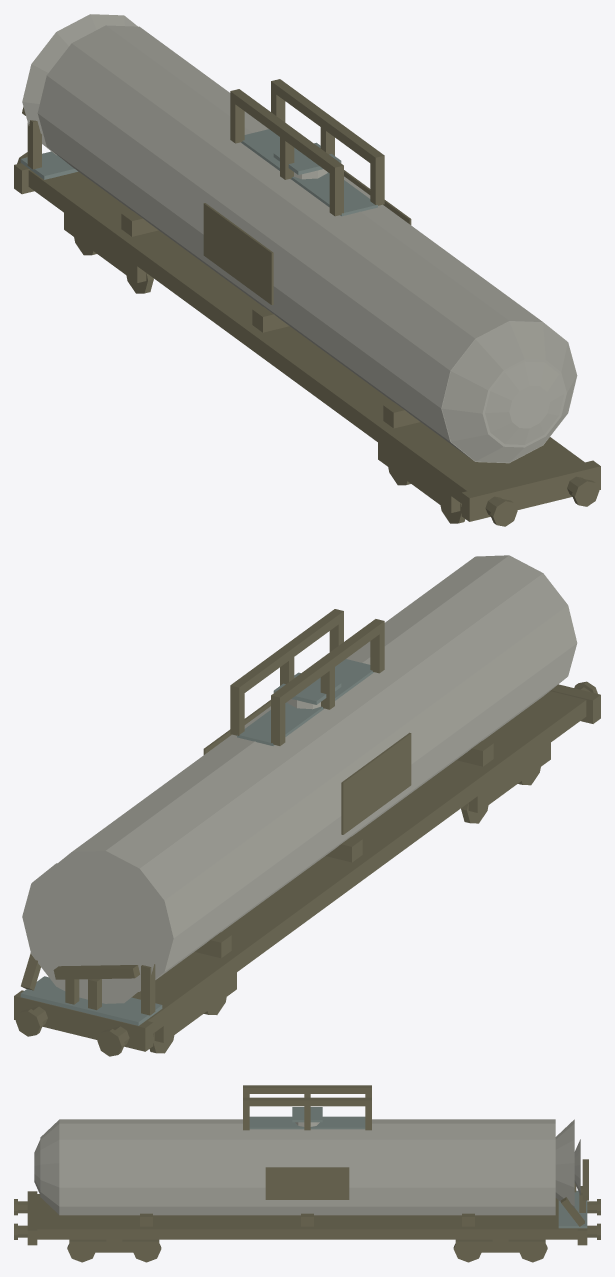
The model's file is SM_VagonCisterna_v2_SinEscalera_LOD1.fbx.
3 renders of one model, top to bottom at view 1: azimuth 30°, elevation 25°; view 2: azimuth 150°, elevation 25°; view 3: azimuth 270°, elevation 25°, orthographic. The views are drawn at different scales.
Parts seen in each view (by area): view 1: SM_bloques.vagon_cisterna_v2_LOD1; view 2: SM_bloques.vagon_cisterna_v2_LOD1; view 3: SM_bloques.vagon_cisterna_v2_LOD1.
Boxes of the visible parts, x1=… form: SM_bloques.vagon_cisterna_v2_LOD1: x1=14, y1=14, x2=600, y2=526; SM_bloques.vagon_cisterna_v2_LOD1: x1=14, y1=555, x2=600, y2=1056; SM_bloques.vagon_cisterna_v2_LOD1: x1=14, y1=1085, x2=600, y2=1262.
Bounding box in the file's own units: 3.08 × 5.4 × 18.24.
